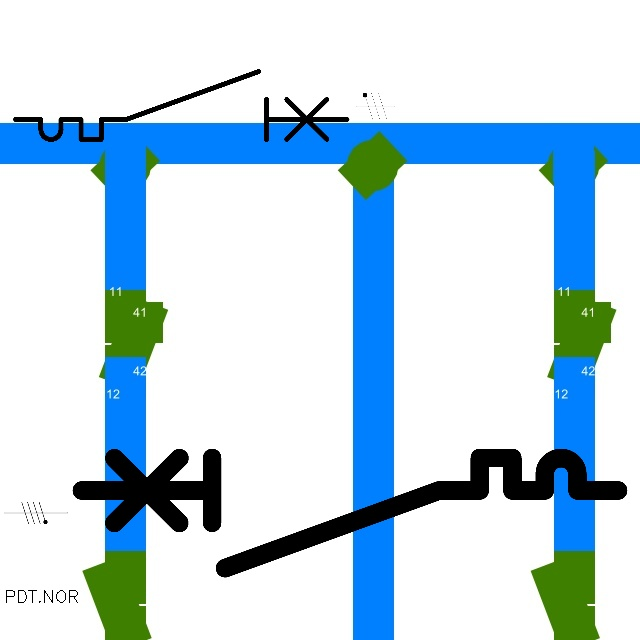interruptor_termomagnetico: (67, 444, 631, 582), (7, 63, 355, 148)
